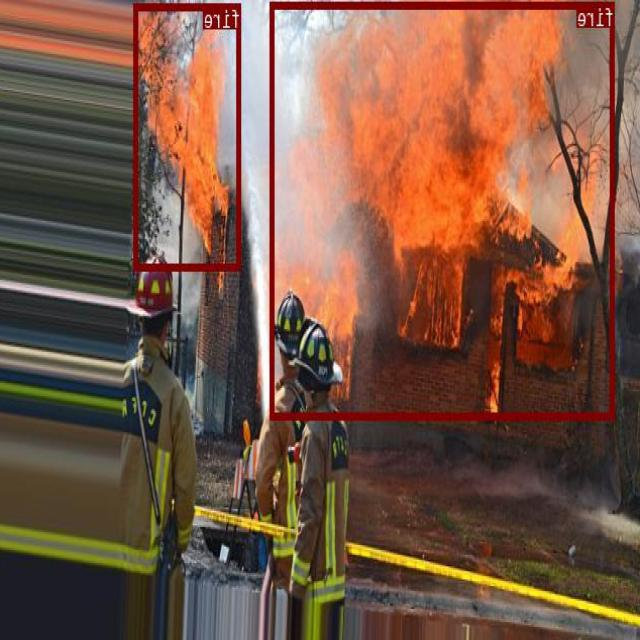fire: (272, 1, 616, 418), (135, 3, 242, 269)
